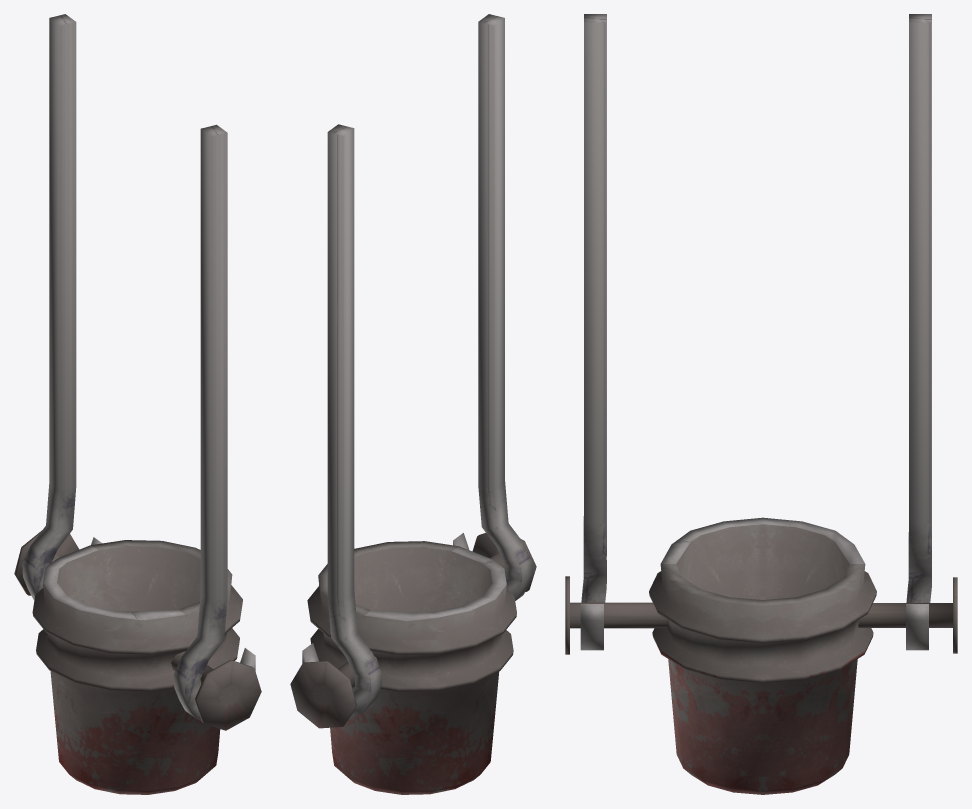
The model's file is BaldeDeMetalDerretido.fbx.
3 renders of one model, left to right at view 1: azimuth 30°, elevation 25°; view 2: azimuth 150°, elevation 25°; view 3: azimuth 270°, elevation 25°, orthographic. The views are drawn at different scales.
Visible parts, largest first — view 1: Caldeira.005; view 2: Caldeira.005; view 3: Caldeira.005.
Part boxes in pixels (left/top/right/bottom): Caldeira.005: left=14, top=14, right=261, bottom=794; Caldeira.005: left=290, top=14, right=536, bottom=794; Caldeira.005: left=565, top=14, right=957, bottom=794.
Bounding box in the file's own units: 554 × 1992 × 953.
